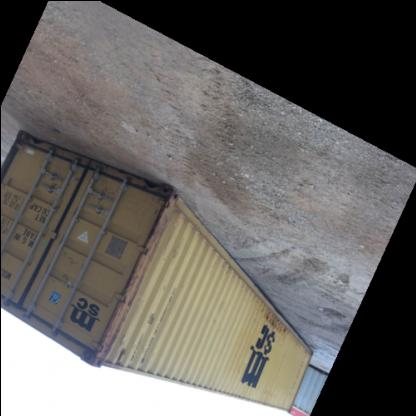Damage: (131, 196, 175, 288), (92, 302, 127, 360), (255, 305, 290, 339), (202, 306, 225, 344), (234, 360, 249, 382)
